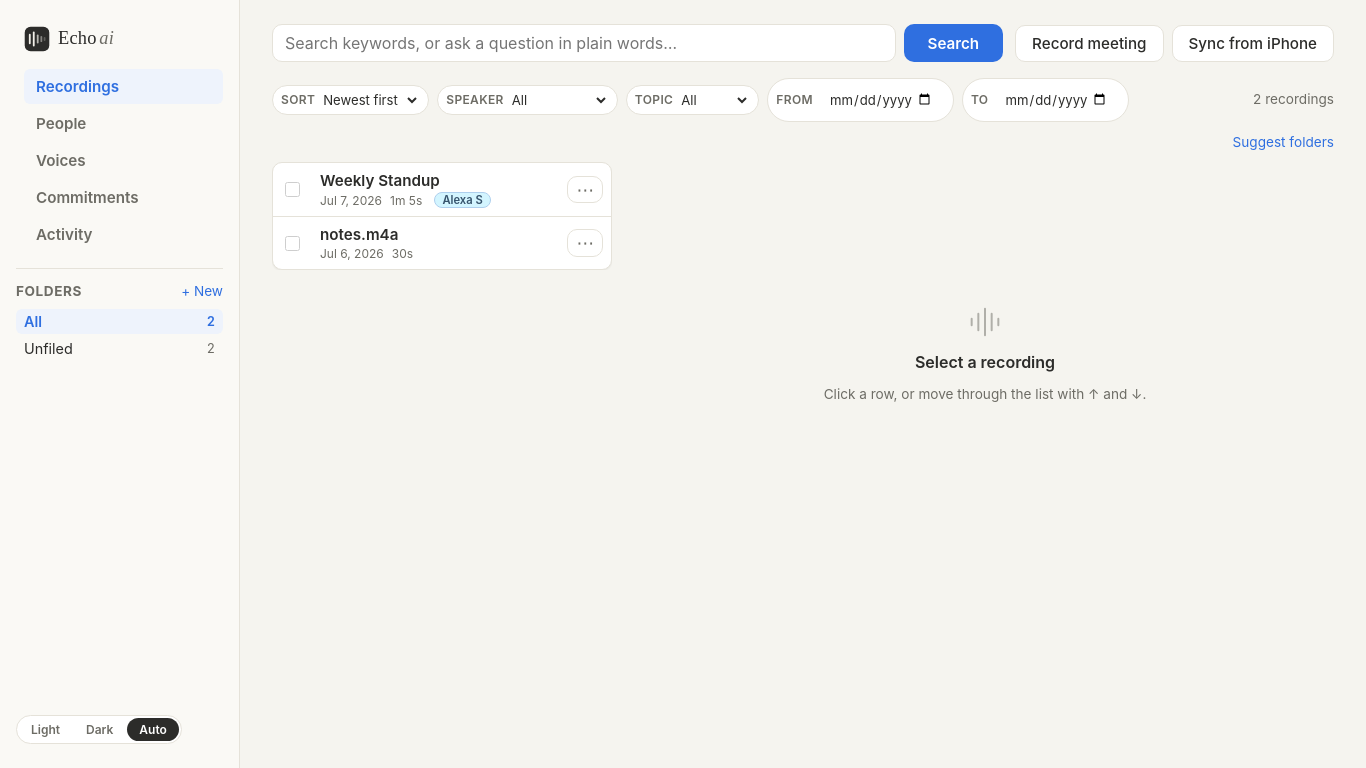
it: App › people tab shows an empty state when nobody is named
Check: the text "Weekly Standup" is shown, box [320,171,440,190]
Step 1. Click the button "People" → point(124, 124), box [24,106,223,141]
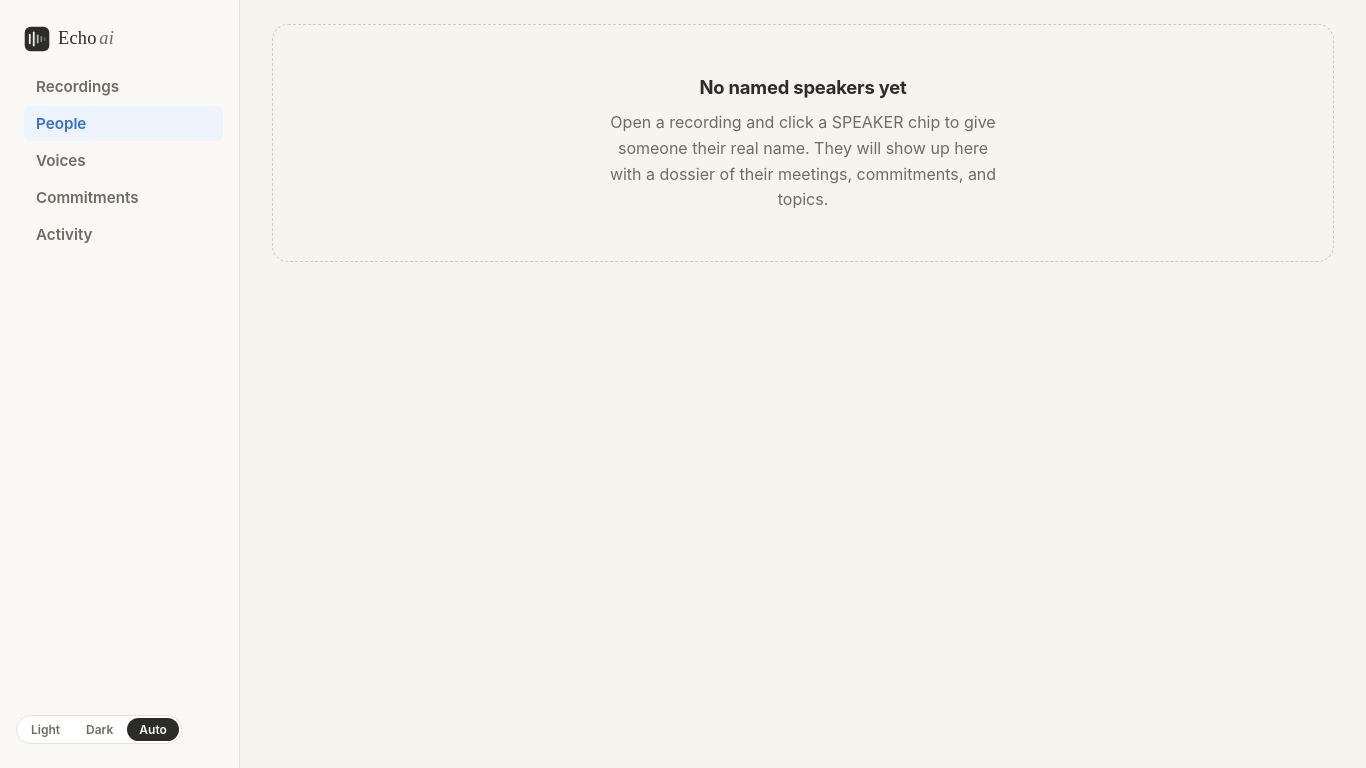
Check: the heading "No named speakers yet" is shown, box [700,76,907,98]
